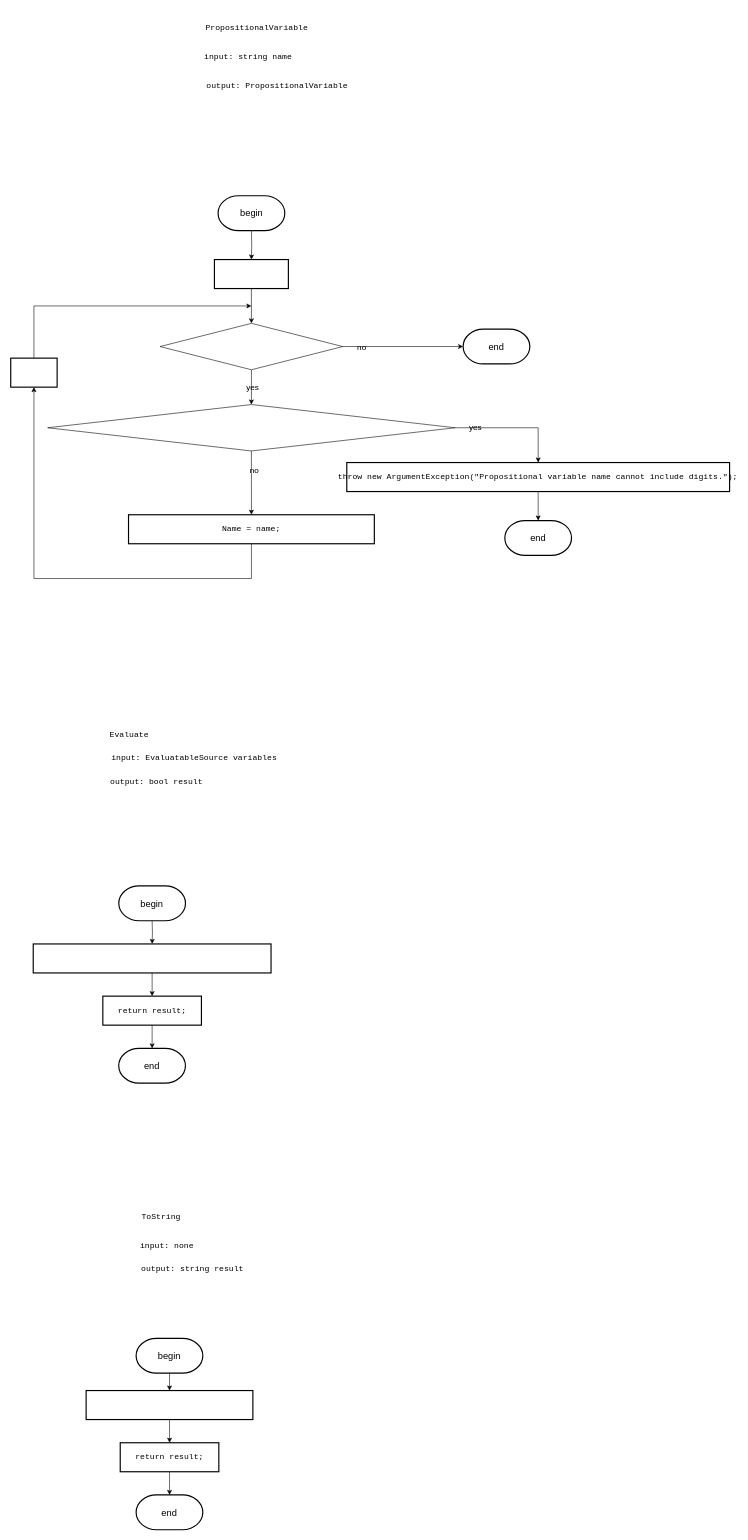
Some shapes in this 748 by 1540 pixel diagram are drawn without their labels. Here are the shapes that lost their labels. From the top down, the centre of each, then its label:
At [251,274]: "int i = 0 ;".
At [251,346]: "i < name.Length;".
At [33,372]: "i++;".
At [251,427]: "! char .IsLetter(name[i])".
At [151,958]: "bool result = variables[VariableIndex];".
At [169,1405]: "string result = Name;".
